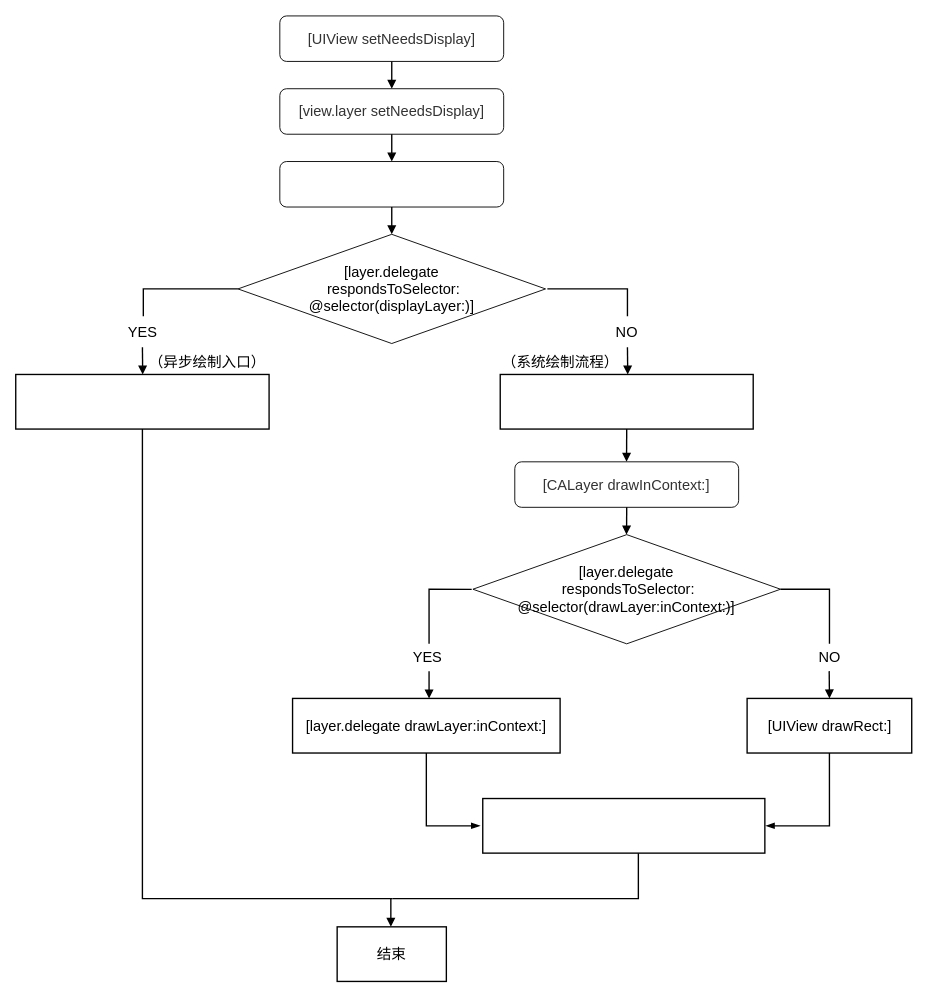
This 929x998 diagram has some shape labels left out. The shapes that lost their labels are listed below. From the top down, each one's box as (x1, y1, x2, y2) in pixels, then its label:
(279, 161, 504, 207): [CALayer display]
(15, 373, 269, 429): [layer.delegate displayLayer:]
(499, 373, 753, 429): CALayer creates backing store(CGContextRef)
(482, 797, 765, 853): CALayer uploads backing store to GPU
